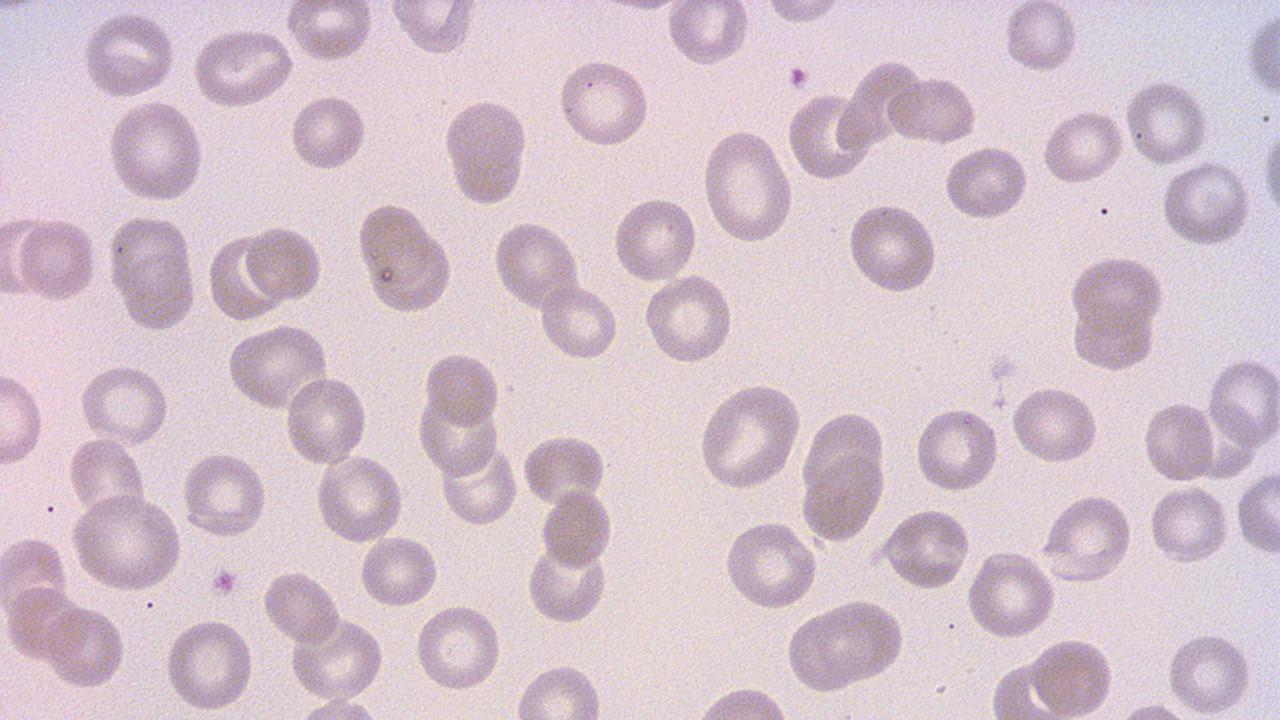Platelets: (210, 566, 240, 598)
RBC: (68, 490, 184, 594), (696, 380, 802, 492), (355, 200, 454, 317), (700, 125, 795, 244), (106, 100, 208, 206), (794, 595, 910, 688), (111, 218, 199, 332), (442, 96, 530, 206), (223, 322, 329, 412), (720, 519, 820, 611), (845, 200, 939, 297), (1037, 492, 1137, 583), (162, 616, 256, 712), (556, 56, 652, 149), (642, 272, 734, 366), (81, 10, 177, 100), (962, 549, 1058, 639), (190, 26, 294, 109), (287, 614, 385, 702), (492, 218, 580, 315), (1158, 159, 1252, 249), (313, 452, 404, 543), (799, 449, 886, 543), (414, 602, 504, 692), (180, 450, 270, 540), (283, 374, 369, 468), (611, 193, 699, 284), (912, 403, 1000, 494), (785, 89, 871, 182), (78, 361, 172, 446), (1067, 254, 1169, 332), (1008, 383, 1101, 468), (878, 508, 974, 590), (1122, 77, 1210, 166), (1165, 628, 1253, 716), (44, 602, 127, 691), (1206, 353, 1280, 452), (525, 538, 608, 625), (417, 391, 500, 477), (17, 215, 96, 305), (882, 72, 978, 145), (67, 434, 148, 520), (520, 430, 610, 507), (207, 231, 283, 322), (1147, 482, 1229, 566), (1028, 635, 1114, 715), (942, 144, 1031, 221), (1038, 108, 1126, 185), (5, 584, 88, 663), (439, 443, 518, 526), (245, 221, 324, 304), (1141, 397, 1215, 485), (358, 532, 440, 611), (539, 282, 619, 362), (288, 92, 368, 172), (261, 567, 342, 646), (1067, 302, 1157, 372), (540, 488, 615, 570), (2, 532, 70, 622), (422, 349, 499, 426), (666, 0, 750, 68), (1003, 0, 1079, 75), (512, 659, 606, 719), (286, 0, 374, 63), (388, 0, 478, 58), (0, 365, 46, 470), (0, 216, 52, 300), (1234, 472, 1280, 556), (1245, 7, 1279, 102), (1260, 117, 1280, 228), (761, 0, 842, 26)
